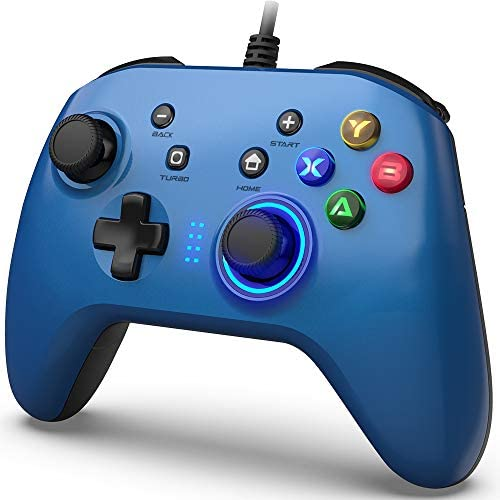controller: (5, 56, 494, 489)
